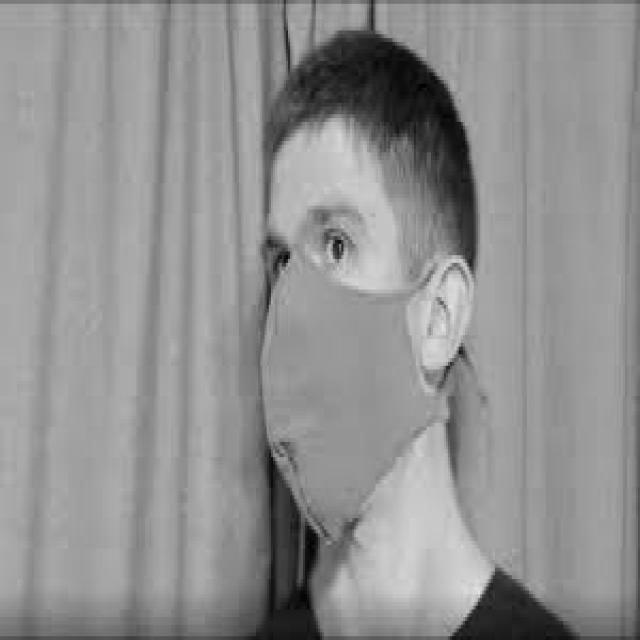fake: (261, 244, 438, 541)
real: (266, 119, 432, 545)
